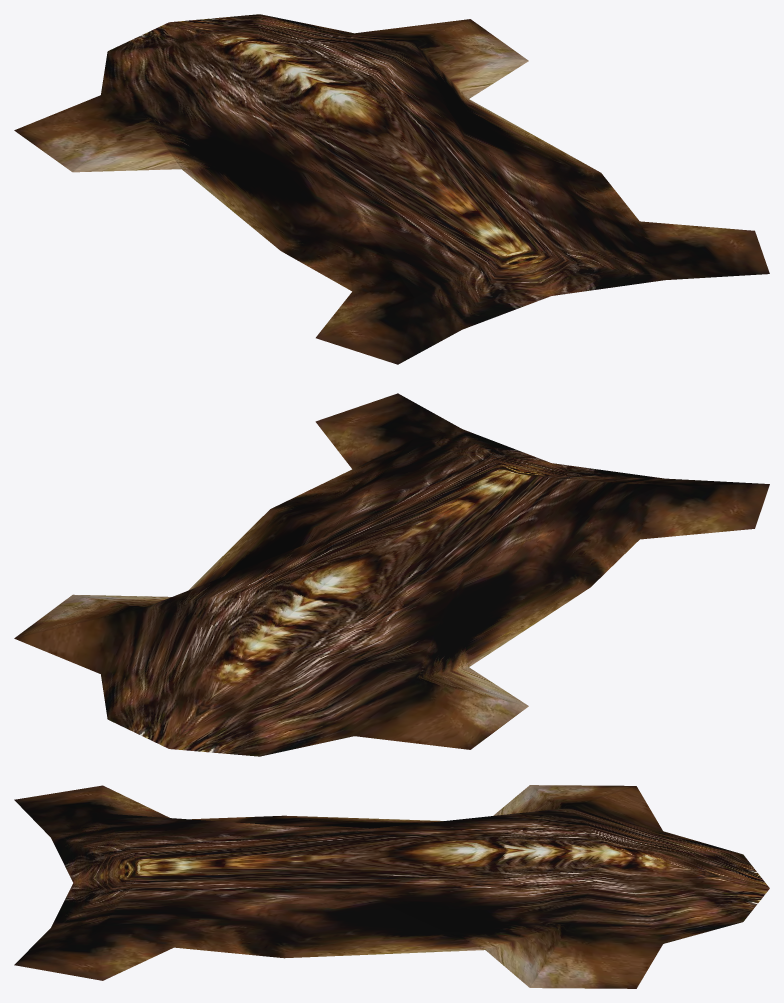
The model's file is ITAT_SHADOWFUR_G.glb.
3 renders of one model, top to bottom at view 1: azimuth 30°, elevation 25°; view 2: azimuth 150°, elevation 25°; view 3: azimuth 270°, elevation 25°, orthographic. The views are drawn at different scales.
Visible parts, largest first — view 1: ITAT_SHADOWFUR_G; view 2: ITAT_SHADOWFUR_G; view 3: ITAT_SHADOWFUR_G.
Part boxes in pixels (x1,y1,x2,y2): ITAT_SHADOWFUR_G: [14, 14, 769, 364]; ITAT_SHADOWFUR_G: [14, 393, 769, 756]; ITAT_SHADOWFUR_G: [14, 785, 769, 988].
Size of the model in its own units: 1.08 by 0.1031 by 1.7.
Materials: 1 (1 with a texture image).
